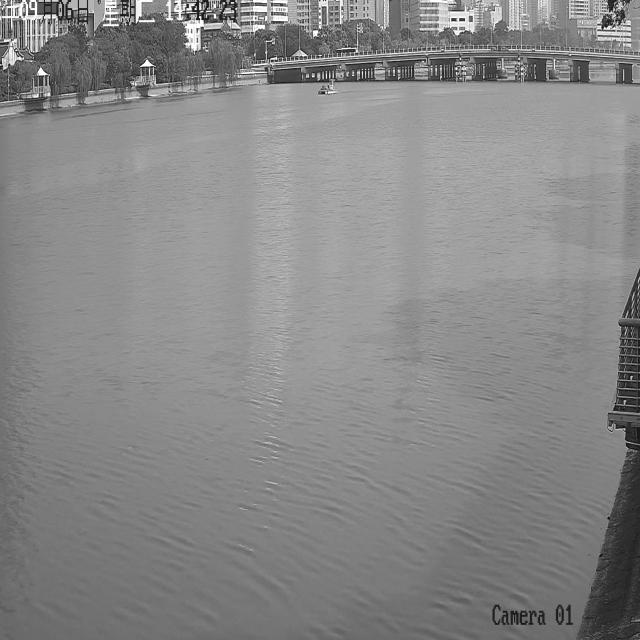ship: (317, 78, 337, 93)
